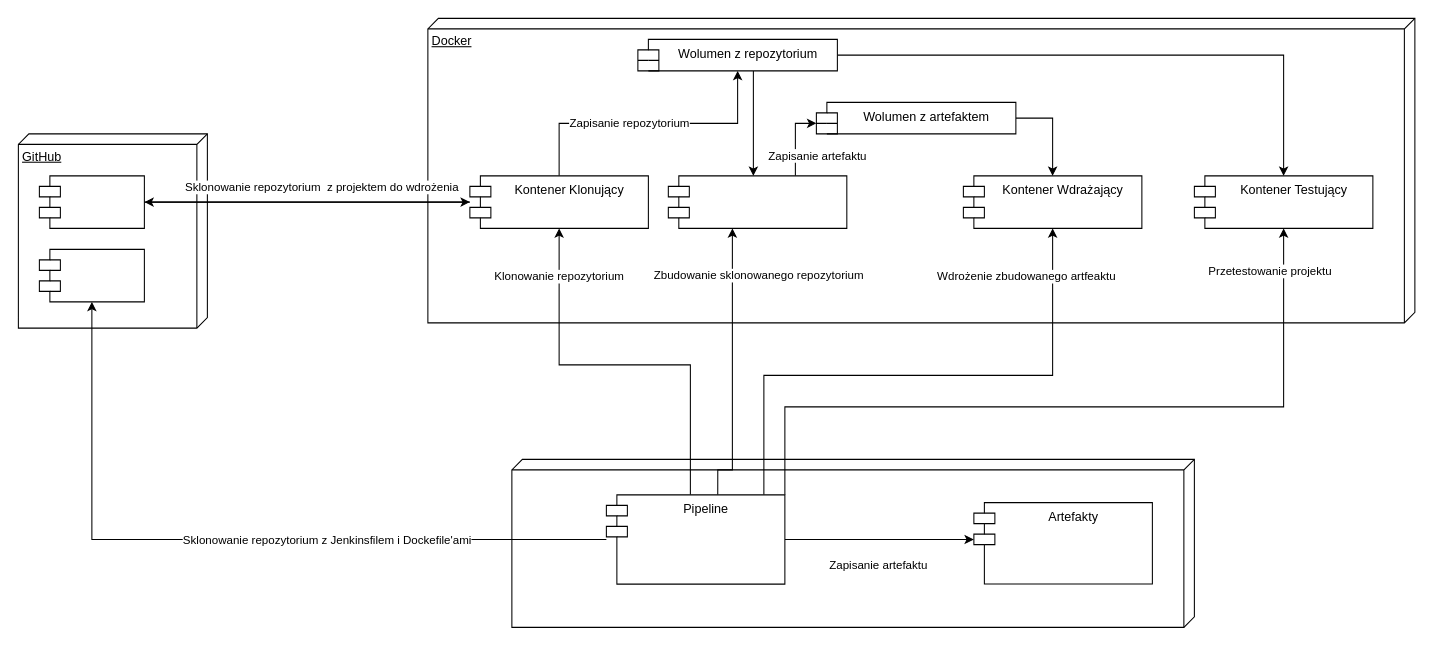
Image size: 1433x646. Some labels were removed from this diagram. Each missing label, with the box of its shape:
Jenkins: (511, 458, 1194, 627)
Kontener Budujący: (667, 175, 847, 228)
LZ4: (38, 175, 144, 228)
MDO2022_S: (38, 248, 144, 302)
